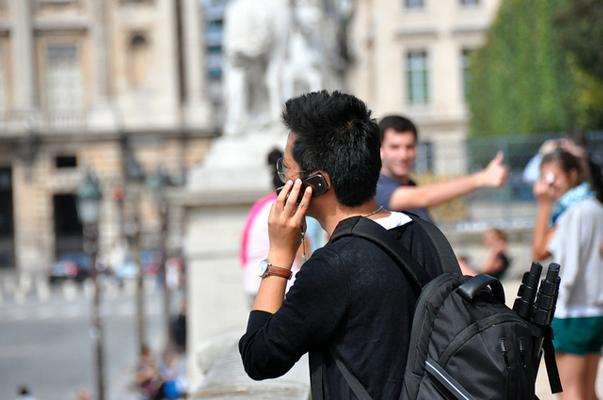person: (240, 88, 466, 400)
